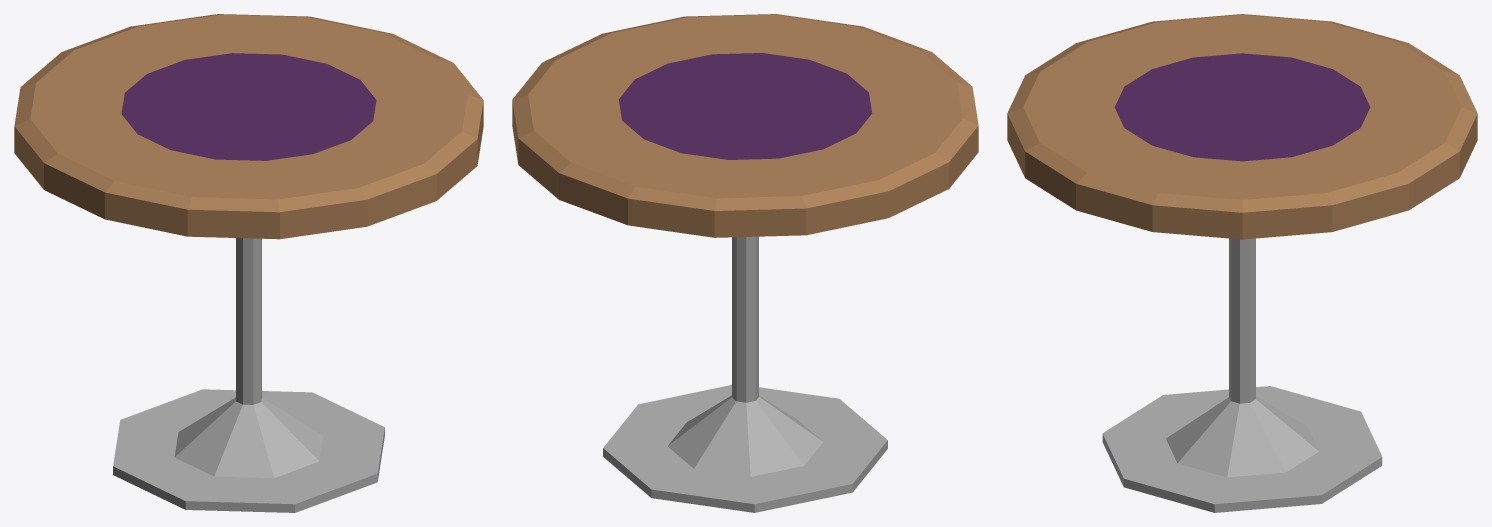
File: SM_Table_07.glb
The picture shows the model from 3 angles, left to right: view 1: azimuth 30°, elevation 25°; view 2: azimuth 150°, elevation 25°; view 3: azimuth 270°, elevation 25°; orthographic projection.
Visible parts, largest first — view 1: SM_Table_07; view 2: SM_Table_07; view 3: SM_Table_07.
Boxes of the visible parts, x1=… form: SM_Table_07: x1=14, y1=14, x2=483, y2=512; SM_Table_07: x1=512, y1=14, x2=978, y2=512; SM_Table_07: x1=1007, y1=14, x2=1477, y2=512.
Size of the model in its own units: 1.12 by 0.9087 by 1.12.
1 material, 1 textured.
